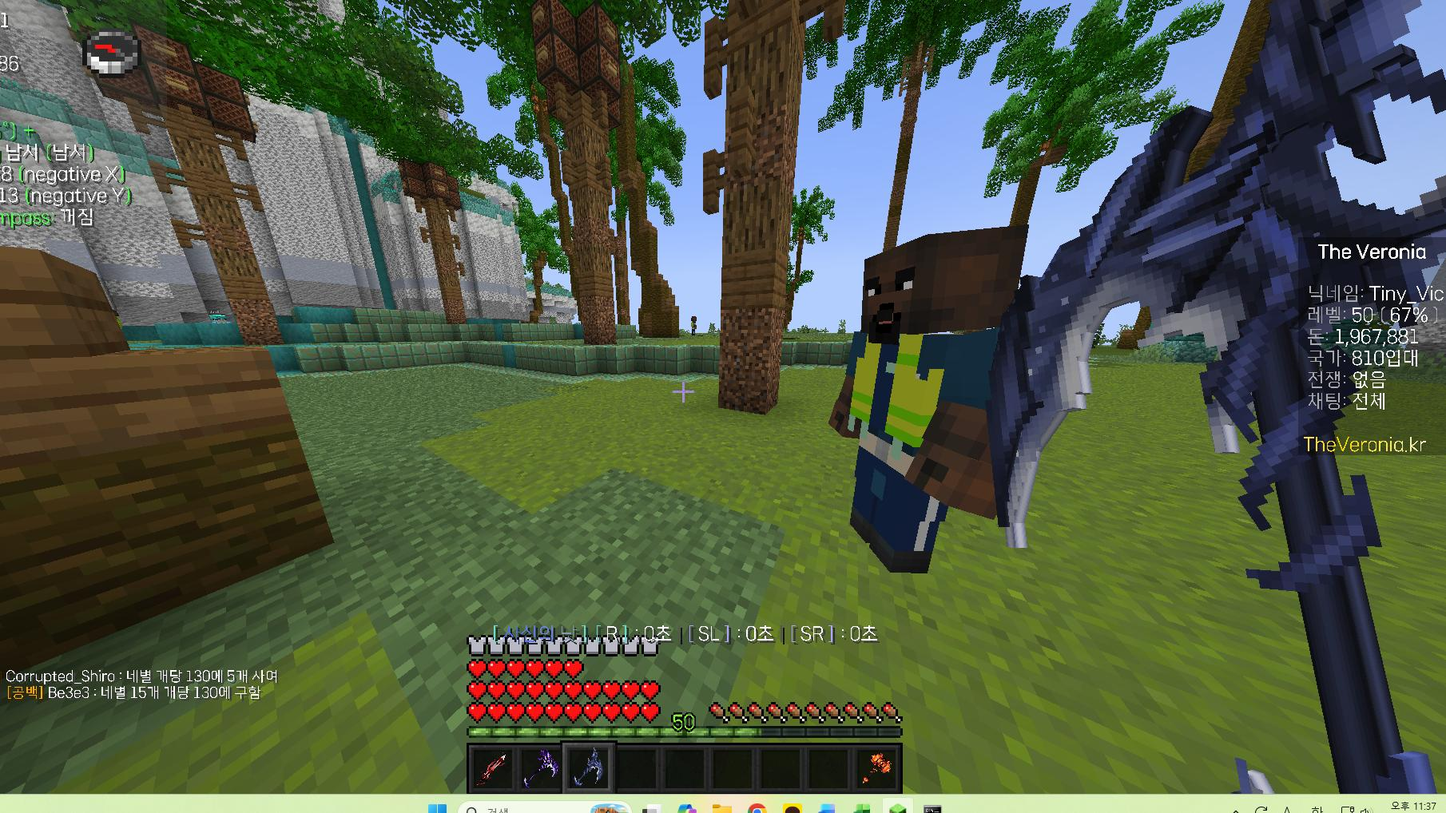Guardian: (831, 227, 1026, 573)
